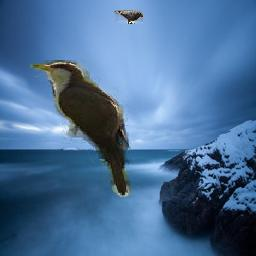Crow: (115, 10, 144, 24)
Cuckoo: (30, 61, 132, 198)
